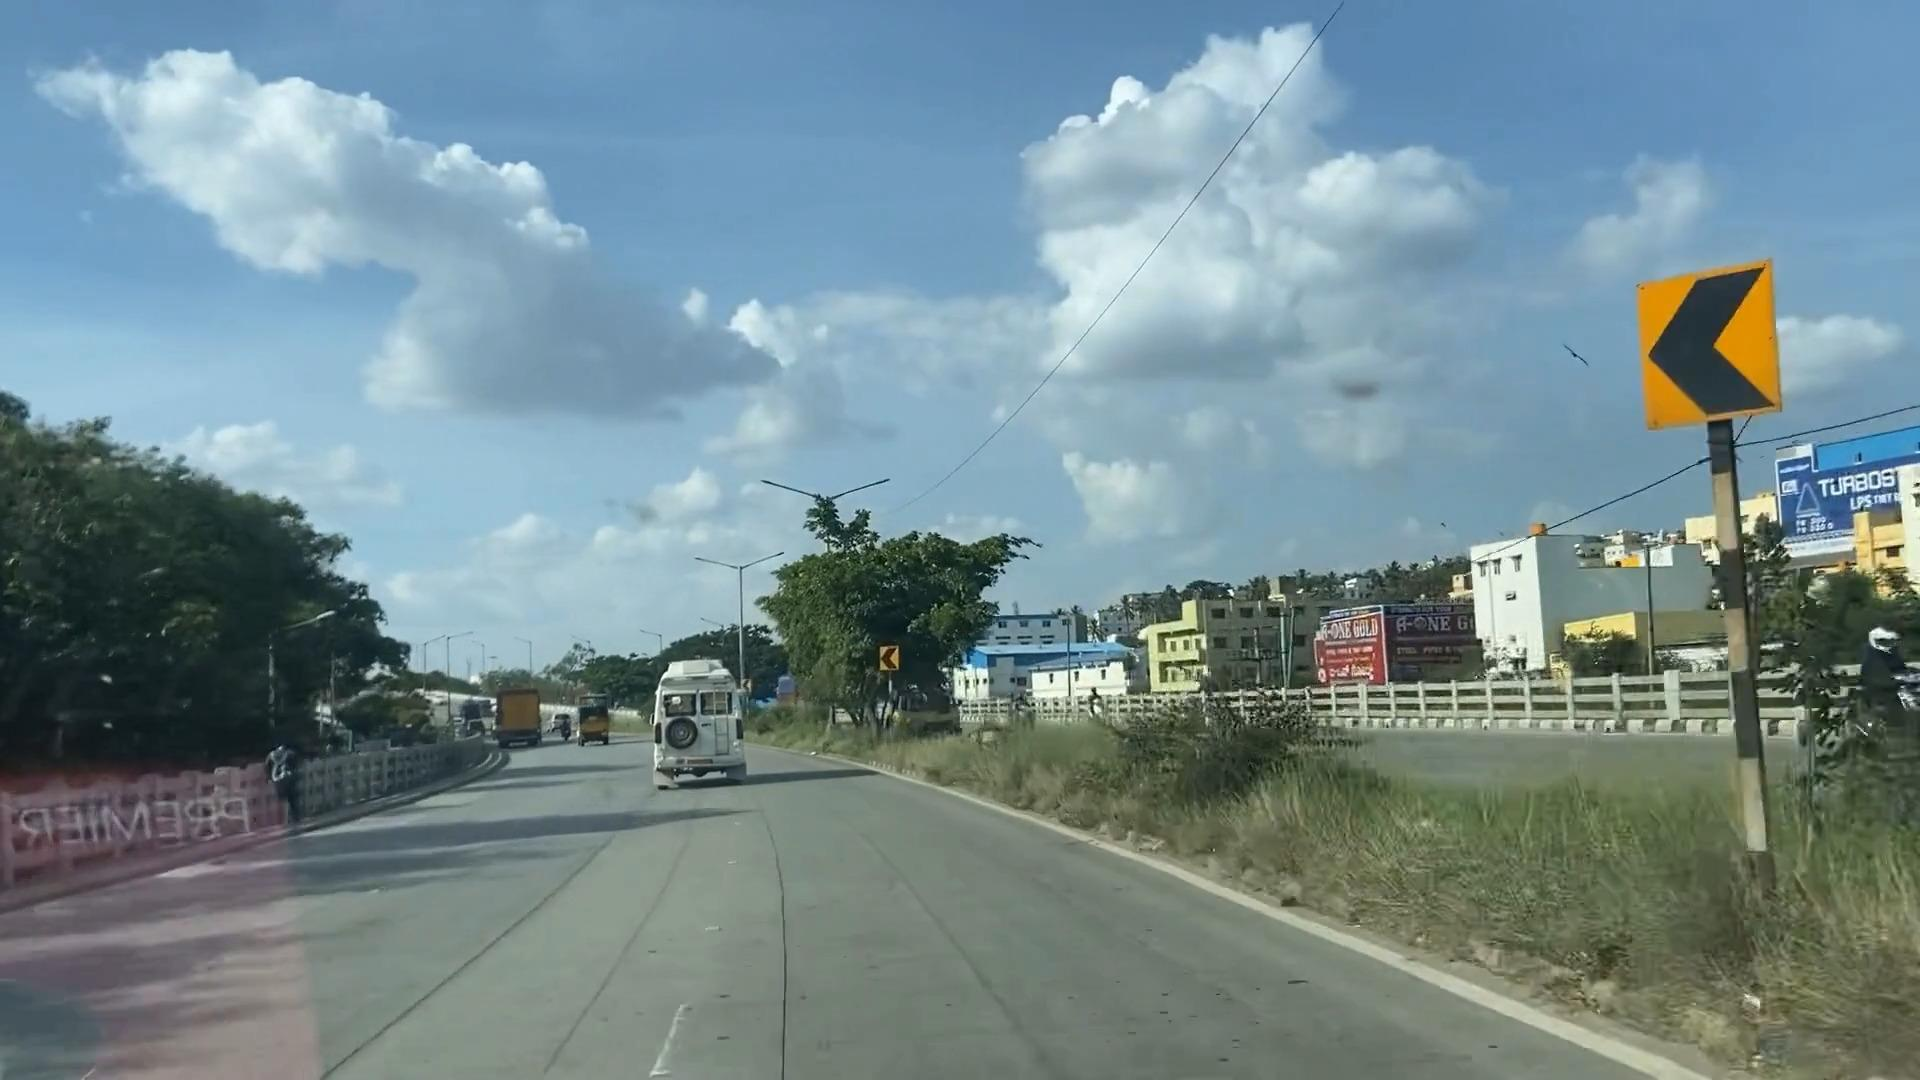HMV: (634, 662, 750, 791)
